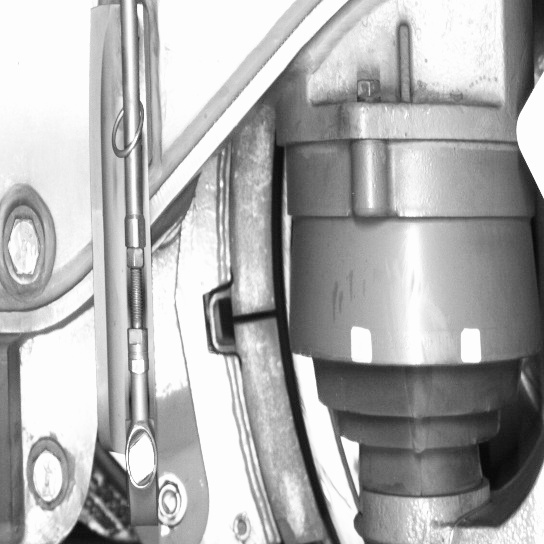KnifeSwitch: (233, 143, 347, 542)
